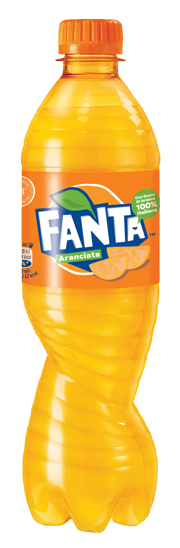Fanta: (22, 24, 165, 535)
